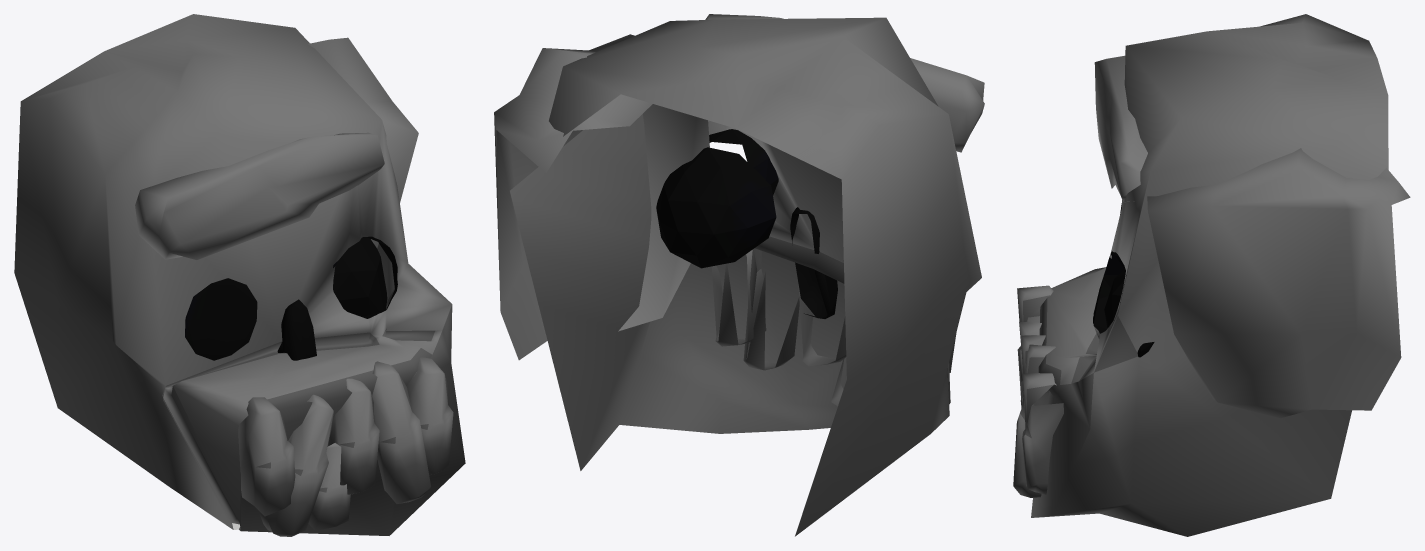
Rendered from CaveiraRocha.glb.
The picture shows the model from 3 angles, left to right: view 1: azimuth 30°, elevation 25°; view 2: azimuth 150°, elevation 25°; view 3: azimuth 270°, elevation 25°; orthographic projection. The views are drawn at different scales.
Parts seen in each view (by area): view 1: CaveiraRocha; view 2: CaveiraRocha; view 3: CaveiraRocha.
Boxes of the visible parts, x1=… form: CaveiraRocha: x1=14, y1=14, x2=465, y2=536; CaveiraRocha: x1=494, y1=14, x2=984, y2=536; CaveiraRocha: x1=1013, y1=14, x2=1410, y2=536.
Size of the model in its own units: 10.86 by 13.56 by 11.54.
Materials: 1 (1 with a texture image).
